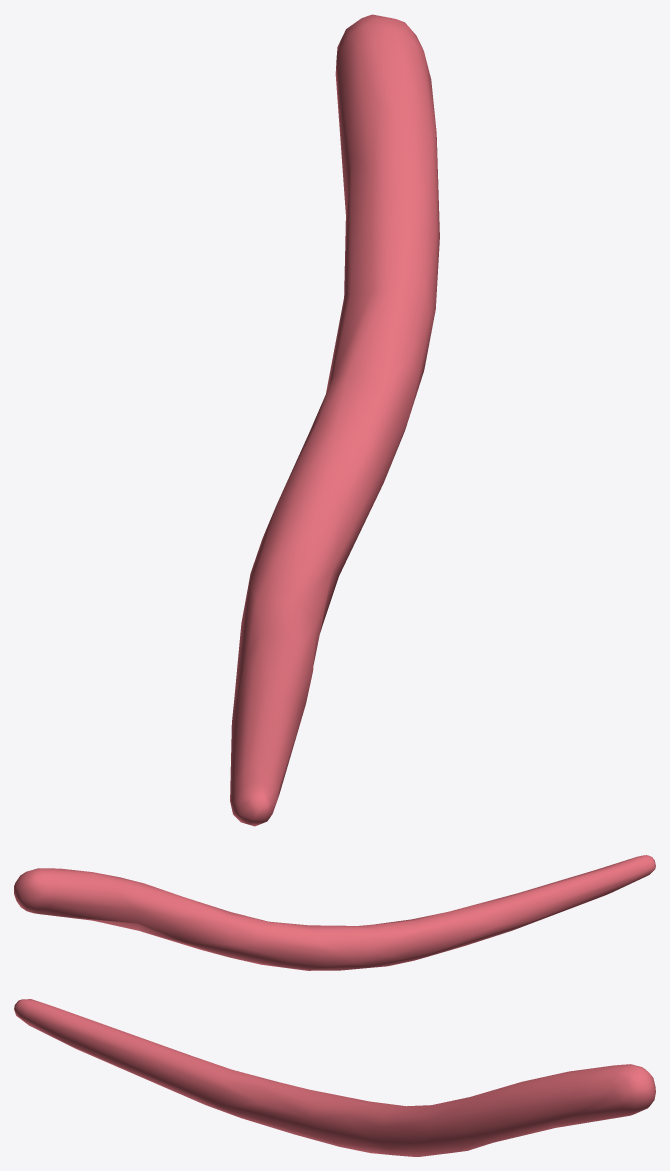
File: fma8665_fj6106.glb
3 views of the same model, one above another, from view 1: azimuth 30°, elevation 25°; view 2: azimuth 150°, elevation 25°; view 3: azimuth 270°, elevation 25° (orthographic). The views are drawn at different scales.
Visible parts, largest first — view 1: FMA8665_FJ6106; view 2: FMA8665_FJ6106; view 3: FMA8665_FJ6106.
Boxes of the visible parts, x1,y1,x2,y2 form: FMA8665_FJ6106: [230, 14, 439, 826]; FMA8665_FJ6106: [14, 855, 655, 970]; FMA8665_FJ6106: [14, 999, 655, 1156].
Bounding box in the file's own units: 0.0452 × 0.0184 × 0.0621.
